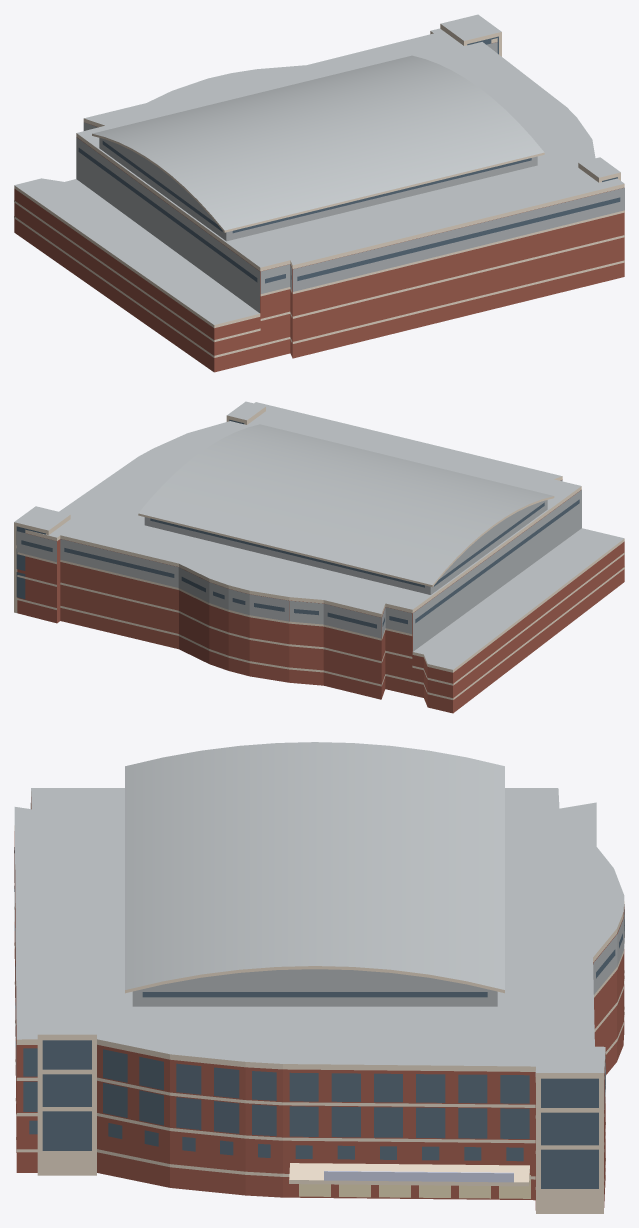
File: jax-vystar-veterans-memorial-arena.glb
3 renders of one model, top to bottom at view 1: azimuth 30°, elevation 25°; view 2: azimuth 150°, elevation 25°; view 3: azimuth 270°, elevation 25°, orthographic. The views are drawn at different scales.
Parts seen in each view (by area): view 1: VyStar Veterans Memorial Arena; view 2: VyStar Veterans Memorial Arena; view 3: VyStar Veterans Memorial Arena.
Part boxes in pixels (box(x1,y1,x2,y2)): VyStar Veterans Memorial Arena: box(14, 14, 624, 372); VyStar Veterans Memorial Arena: box(14, 401, 624, 713); VyStar Veterans Memorial Arena: box(14, 742, 624, 1213).
Size of the model in its own units: 158 by 39.2 by 122.
